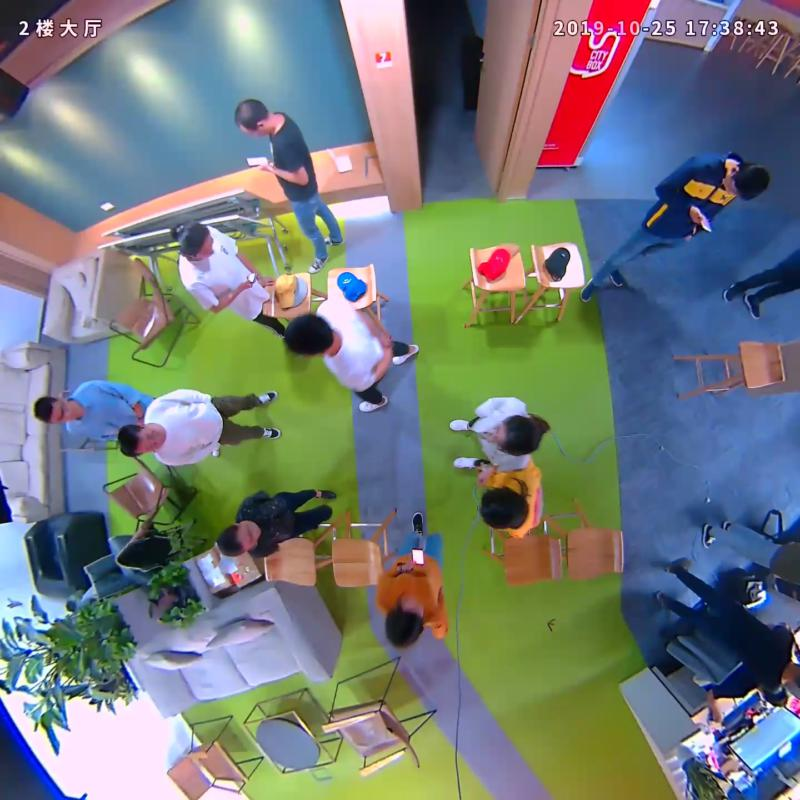head: (284, 313, 334, 355), (493, 415, 538, 457), (385, 599, 423, 647), (723, 163, 769, 202), (116, 423, 166, 456), (176, 221, 215, 261), (481, 487, 519, 528), (218, 522, 261, 557), (235, 99, 271, 137), (33, 395, 75, 425)
